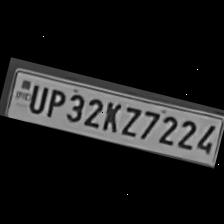2: (80, 92, 106, 129), (153, 109, 179, 146), (172, 113, 198, 150)
3: (62, 88, 87, 124)
4: (191, 116, 219, 154)
7: (135, 105, 160, 141)
K: (99, 97, 124, 133)
P: (41, 82, 67, 119)
U: (23, 78, 48, 114)
Z: (115, 99, 143, 138)
